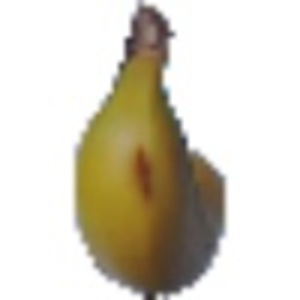banana: (66, 5, 235, 292)
